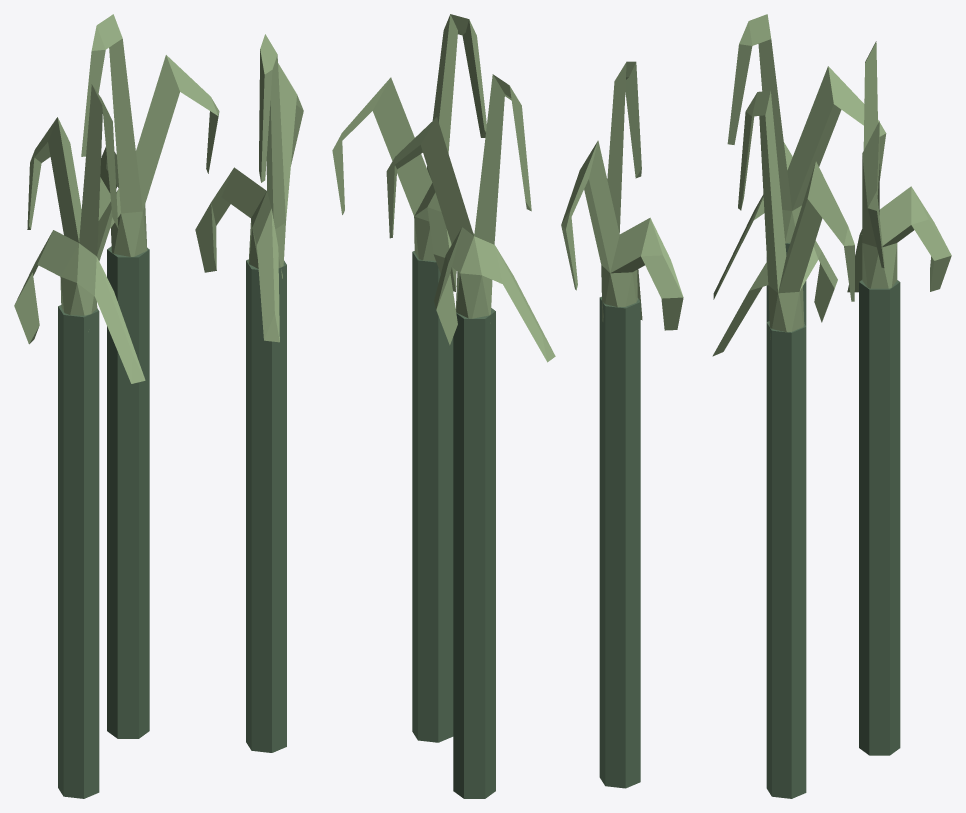
The model's file is サトウキビ_1.fbx.
The picture shows the model from 3 angles, left to right: view 1: azimuth 30°, elevation 25°; view 2: azimuth 150°, elevation 25°; view 3: azimuth 270°, elevation 25°; orthographic projection. The views are drawn at different scales.
Visible parts, largest first — view 1: 円柱.002, ICO球.002; view 2: 円柱.002, ICO球.002; view 3: 円柱.002, ICO球.002.
Boxes of the visible parts, x1,y1,x2,y2 form: 円柱.002: (58,246,286,798); ICO球.002: (14,14,303,383); 円柱.002: (412,251,640,798); ICO球.002: (332,14,683,362); 円柱.002: (766,242,900,798); ICO球.002: (712,14,951,356).
Bounding box in the file's own units: 346 × 750 × 233.
